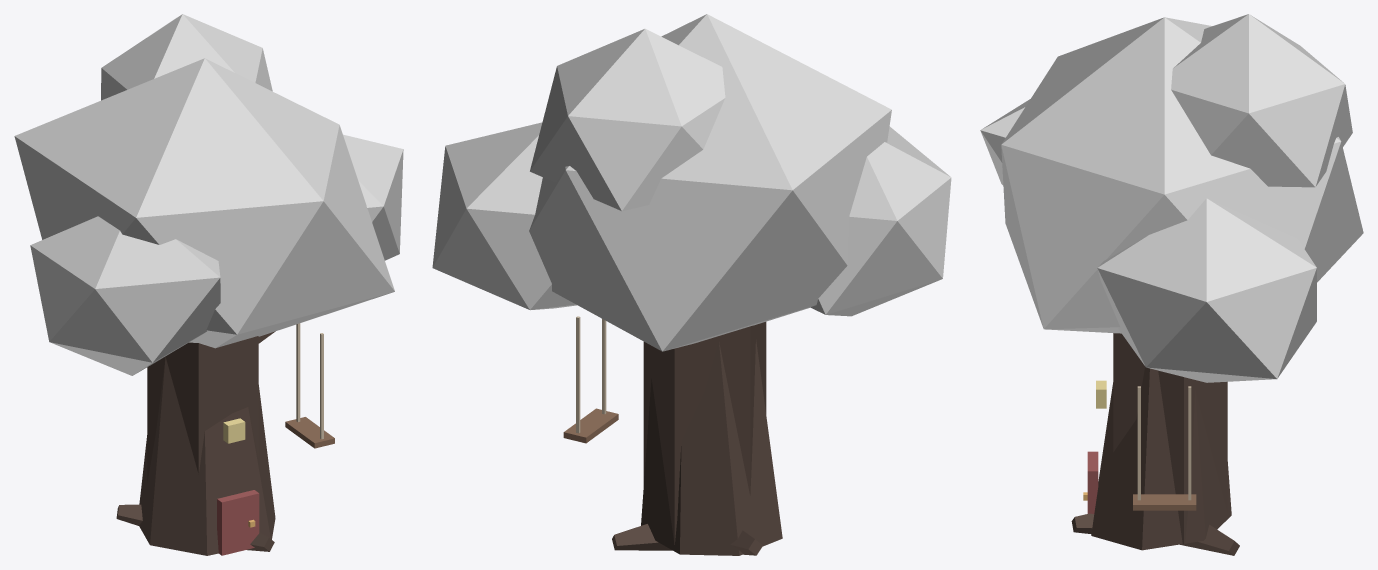
The model's file is old_oak.glb.
The picture shows the model from 3 angles, left to right: view 1: azimuth 30°, elevation 25°; view 2: azimuth 150°, elevation 25°; view 3: azimuth 270°, elevation 25°; orthographic projection. The views are drawn at different scales.
Parts seen in each view (by area): view 1: far, crown2, trunk, far_trunk, crown3, crown1, door, detail_seat, detail_window, detail_rope2; view 2: far, crown3, trunk, crown1, crown2, far_trunk, detail_seat, root1; view 3: far, crown1, crown3, trunk, far_trunk, crown2, detail_seat, root1, door.
Boxes of the visible parts, x1=… form: far: x1=14, y1=58, x2=394, y2=348; crown2: x1=30, y1=216, x2=220, y2=375; trunk: x1=139, y1=357, x2=275, y2=555; far_trunk: x1=147, y1=336, x2=258, y2=482; crown3: x1=101, y1=14, x2=272, y2=100; crown1: x1=343, y1=134, x2=403, y2=260; door: x1=217, y1=490, x2=259, y2=555; detail_seat: x1=285, y1=417, x2=334, y2=448; detail_window: x1=223, y1=418, x2=245, y2=443; detail_rope2: x1=296, y1=323, x2=300, y2=421; far: x1=529, y1=14, x2=891, y2=351; crown3: x1=530, y1=28, x2=725, y2=210; trunk: x1=641, y1=339, x2=782, y2=555; crown1: x1=432, y1=122, x2=576, y2=310; crown2: x1=810, y1=126, x2=951, y2=316; far_trunk: x1=643, y1=322, x2=766, y2=544; detail_seat: x1=563, y1=408, x2=618, y2=443; root1: x1=612, y1=524, x2=672, y2=550; far: x1=1001, y1=17, x2=1363, y2=333; crown1: x1=1097, y1=198, x2=1316, y2=382; crown3: x1=1171, y1=14, x2=1352, y2=187; trunk: x1=1091, y1=366, x2=1231, y2=550; far_trunk: x1=1113, y1=333, x2=1227, y2=544; crown2: x1=980, y1=99, x2=1030, y2=185; detail_seat: x1=1133, y1=494, x2=1196, y2=510; root1: x1=1180, y1=525, x2=1239, y2=555; door: x1=1087, y1=451, x2=1098, y2=513.
Size of the model in its own units: 2.37 by 2.81 by 1.82.
